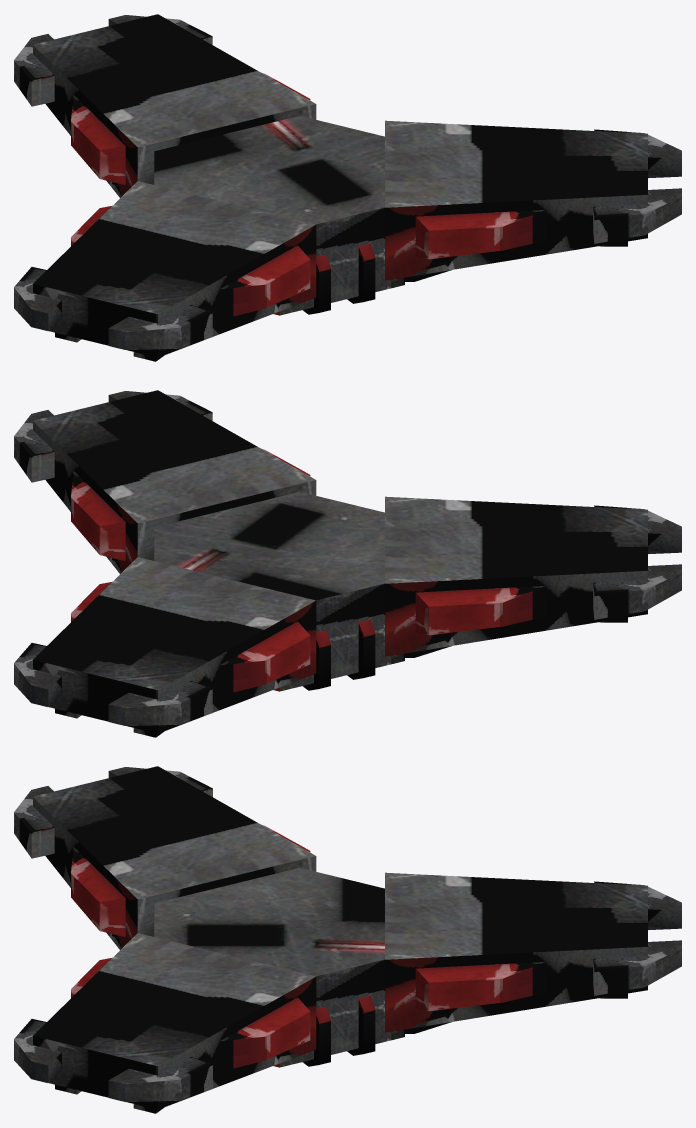
The model's file is platform_base.fbx.
The picture shows the model from 3 angles, top to bottom: view 1: azimuth 30°, elevation 25°; view 2: azimuth 150°, elevation 25°; view 3: azimuth 270°, elevation 25°; orthographic projection.
Parts seen in each view (by area): view 1: PipelineFBX; view 2: PipelineFBX; view 3: PipelineFBX.
Part boxes in pixels (left/top/right/bottom): PipelineFBX: left=14, top=14, right=681, bottom=361; PipelineFBX: left=14, top=390, right=681, bottom=737; PipelineFBX: left=14, top=766, right=681, bottom=1113.
Size of the model in its own units: 138 by 22.91 by 123.
1 material, 1 textured.
